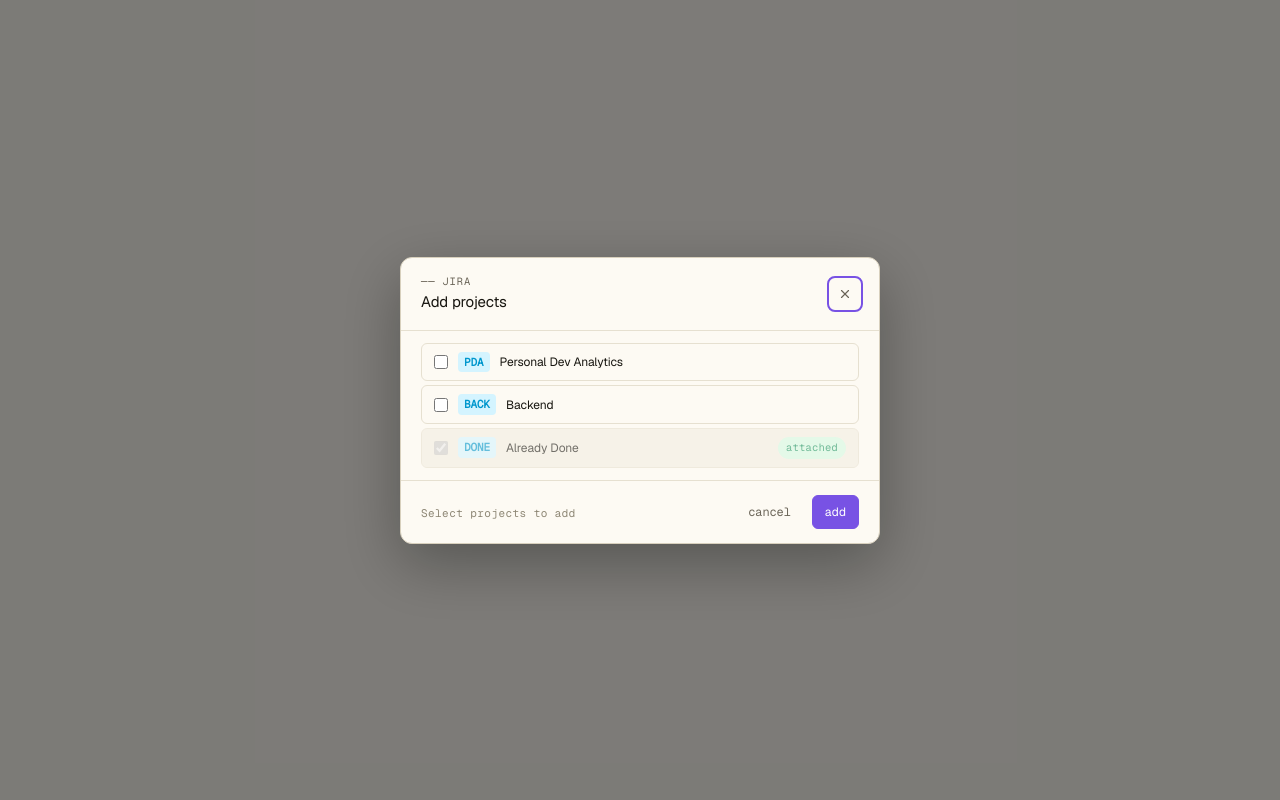
Scenario: DiscoverProjectsModal › selecting projects updates the Add button count
Click the checkbox named "Select PDA". click: (441, 362)
box: x1=434 y1=355 x2=448 y2=369
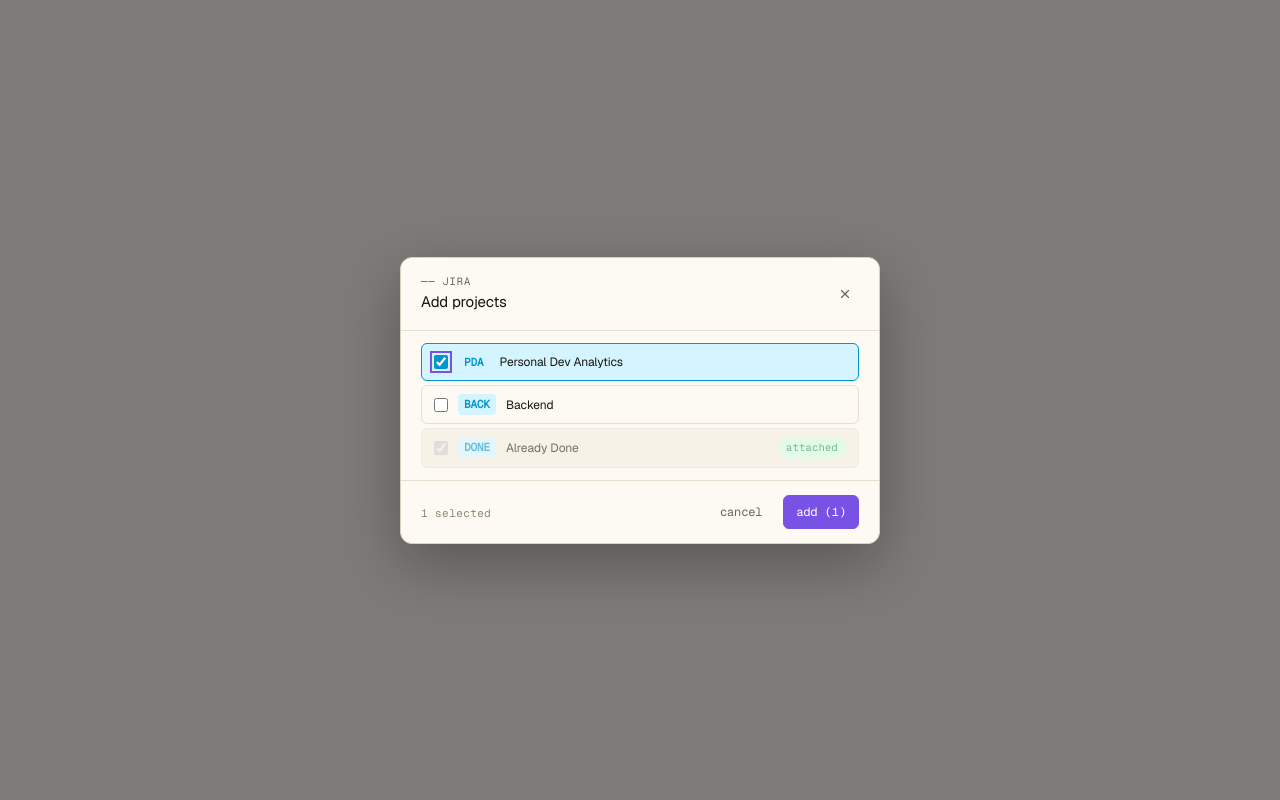
Click the checkbox named "Select BACK". click: (441, 404)
box: x1=434 y1=398 x2=448 y2=412
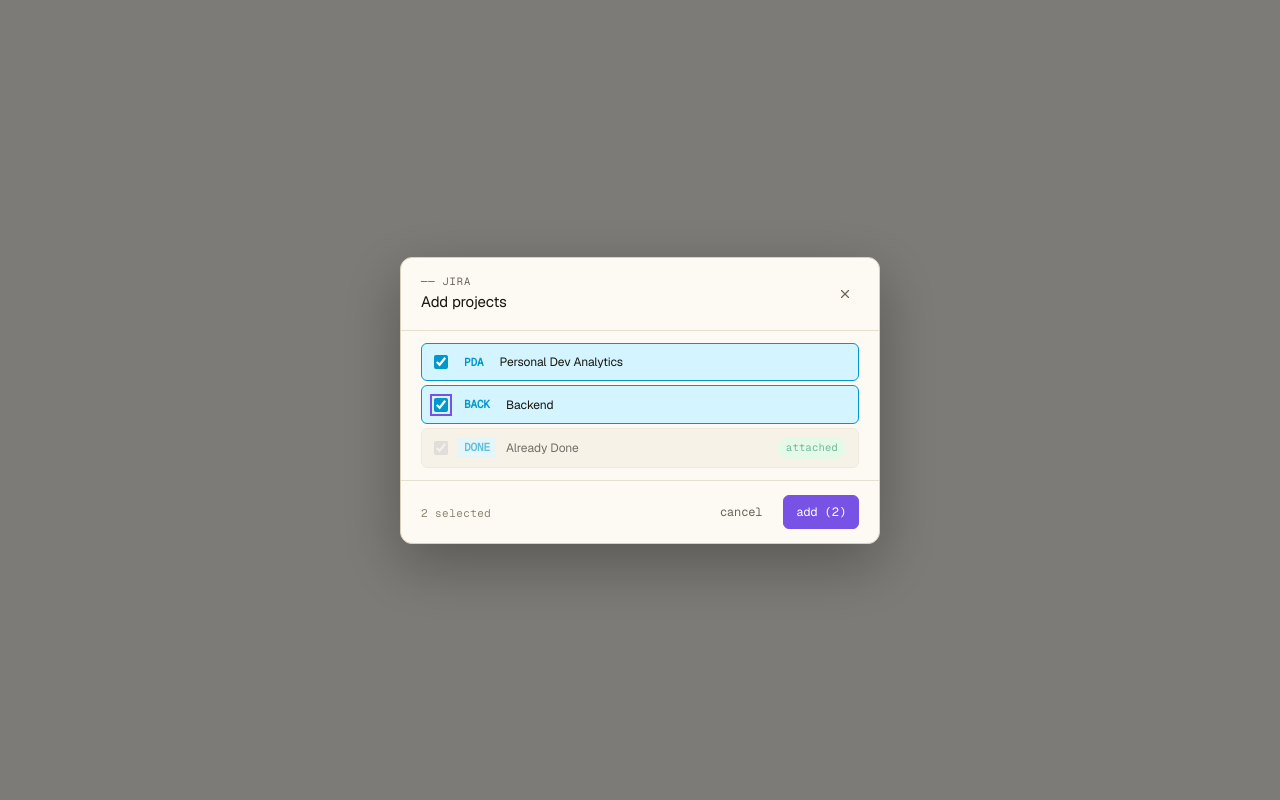
Now the button "add (2)" is shown, box x1=783 y1=494 x2=859 y2=528
